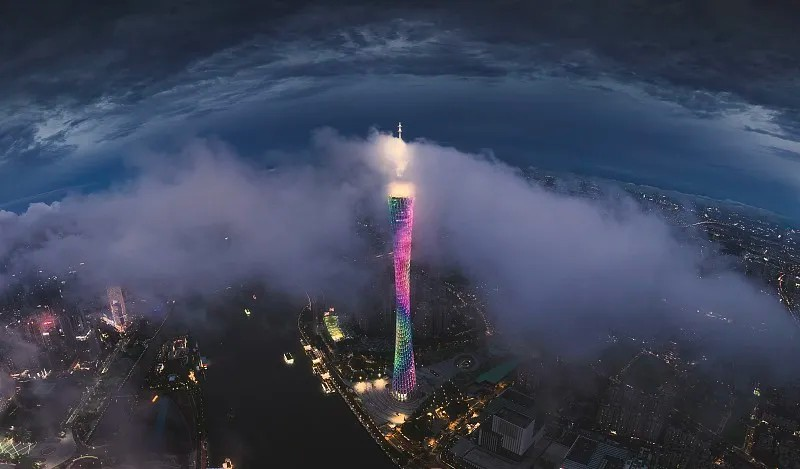Canton: (381, 122, 422, 402)
